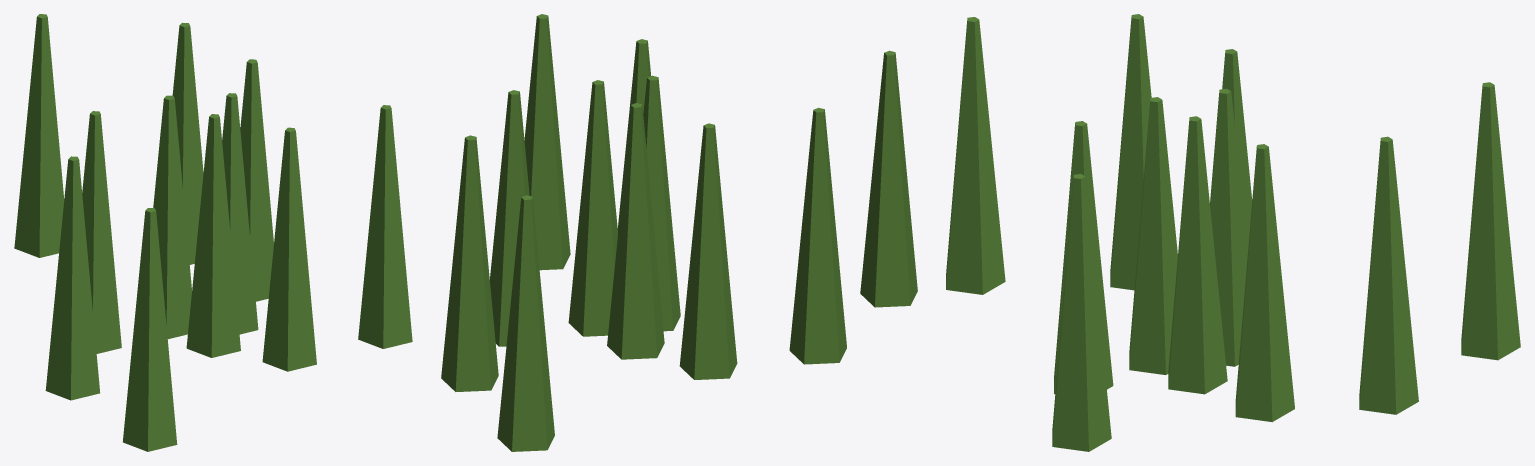
Rendered from NAT_Grass.fbx.
The picture shows the model from 3 angles, left to right: view 1: azimuth 30°, elevation 25°; view 2: azimuth 150°, elevation 25°; view 3: azimuth 270°, elevation 25°; orthographic projection. The views are drawn at different scales.
Parts seen in each view (by area): view 1: NAT_Grass__BODY; view 2: NAT_Grass__BODY; view 3: NAT_Grass__BODY.
Boxes of the visible parts, x1,y1,x2,y2 form: NAT_Grass__BODY: (14,14,412,451); NAT_Grass__BODY: (441,14,917,451); NAT_Grass__BODY: (946,14,1520,451).
Bounding box in the file's own units: 0.6699 × 0.44 × 0.8737.
